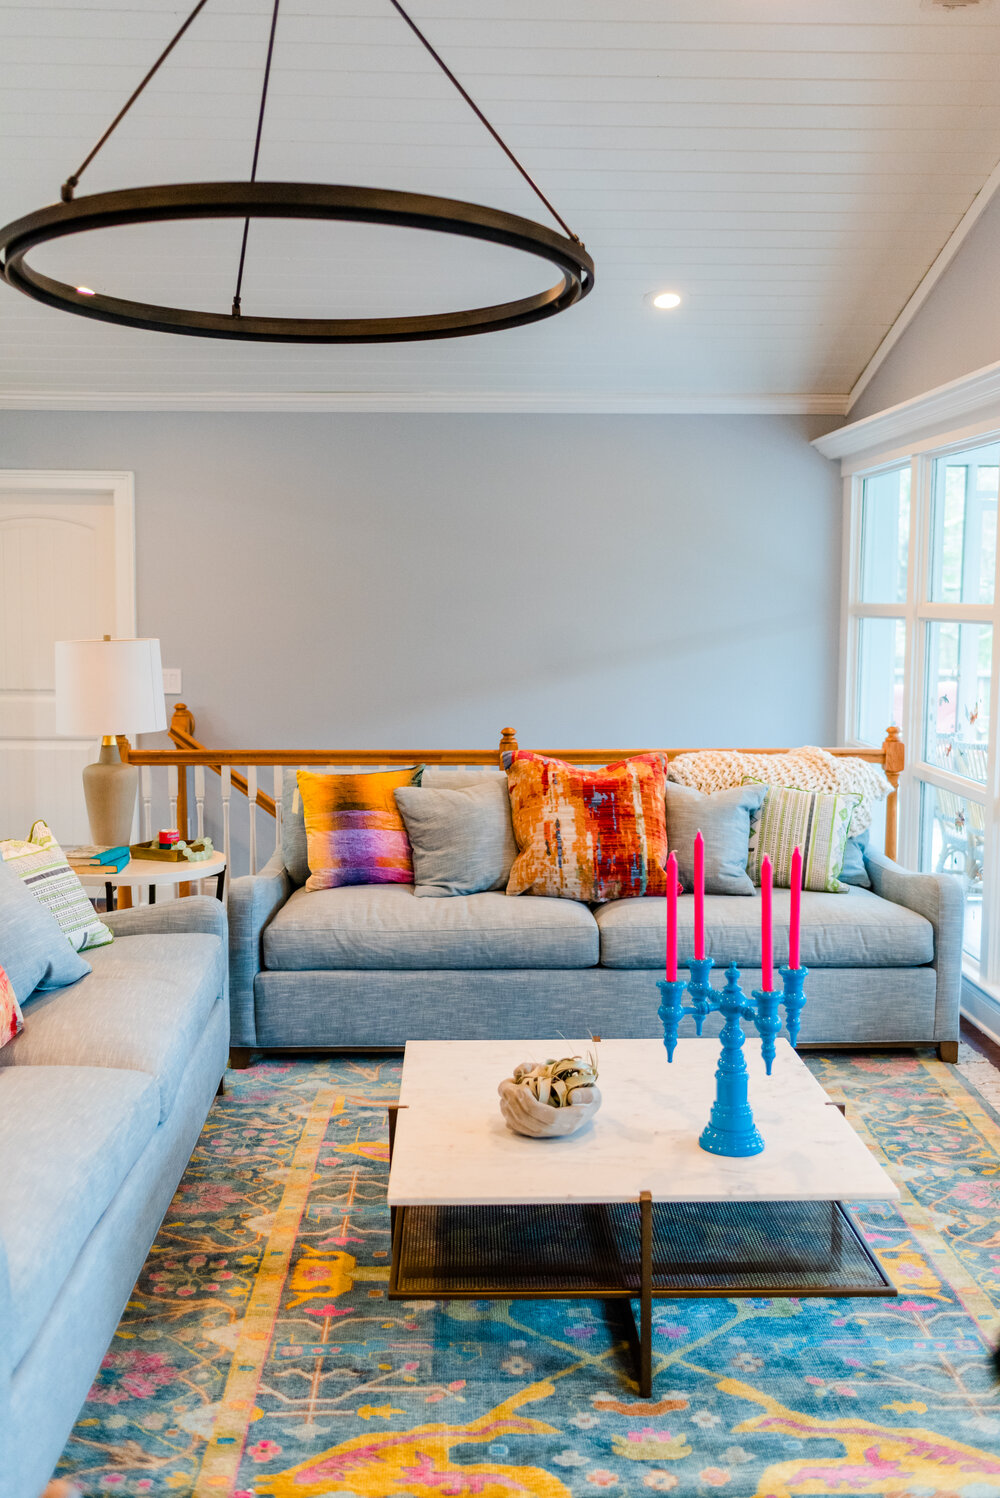biru: (1, 901, 214, 1472), (666, 978, 792, 1151), (1, 872, 81, 1001)
pink: (754, 860, 775, 989), (691, 835, 711, 964), (664, 856, 684, 985), (786, 851, 802, 977)
putih: (397, 1037, 902, 1206), (50, 641, 174, 740)
